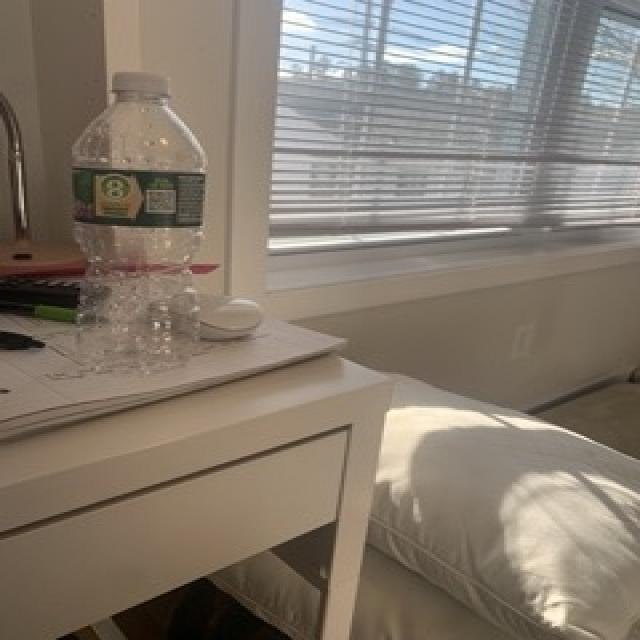water_bottle: (65, 65, 206, 374)
